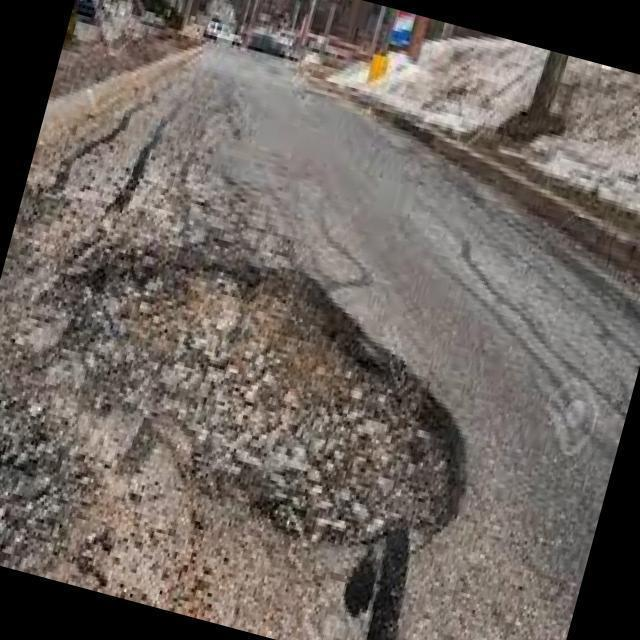pothole: (93, 266, 450, 569)
